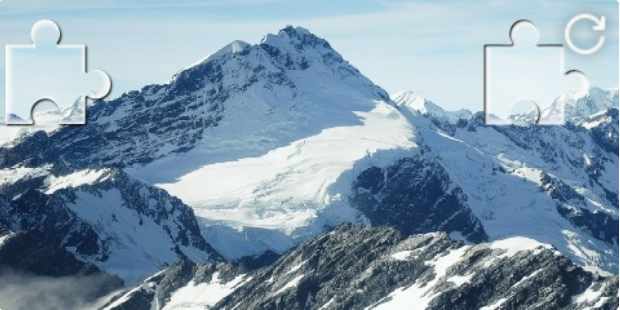target: (485, 20, 591, 126)
